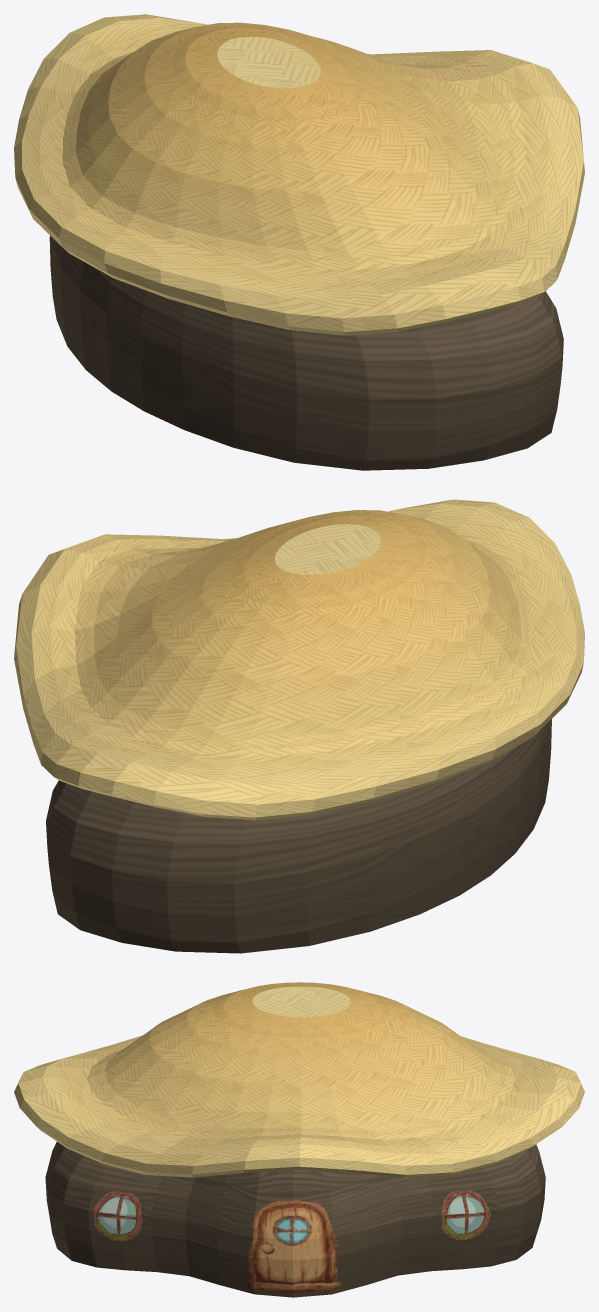
Rendered from MidHouse.fbx.
3 views of the same model, one above another, from view 1: azimuth 30°, elevation 25°; view 2: azimuth 150°, elevation 25°; view 3: azimuth 270°, elevation 25° (orthographic). The views are drawn at different scales.
Parts seen in each view (by area): view 1: MidHouse; view 2: MidHouse; view 3: MidHouse.
Part boxes in pixels (x1,y1,x2,y2): MidHouse: (14,14,584,470); MidHouse: (14,499,584,953); MidHouse: (14,982,584,1297).
Bounding box in the file's own units: 591 × 330 × 798.
